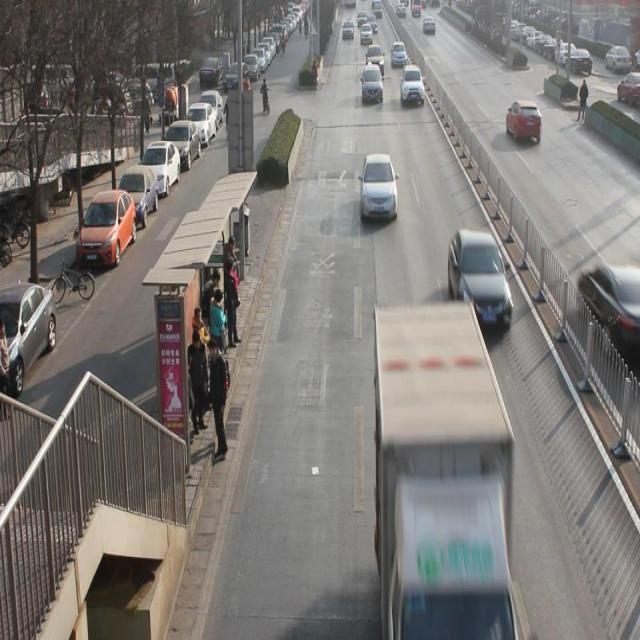bus: (371, 307, 514, 623)
car: (449, 231, 514, 332), (360, 153, 397, 224), (506, 99, 544, 144), (401, 68, 425, 110), (359, 64, 384, 104), (388, 38, 408, 70), (365, 44, 385, 72)
